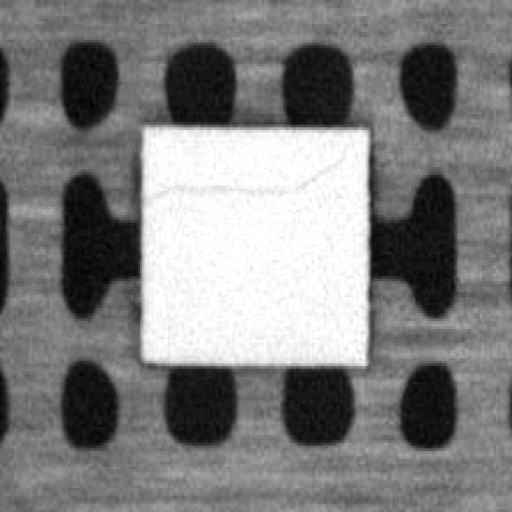DIE_CRACK: (156, 144, 352, 196)
